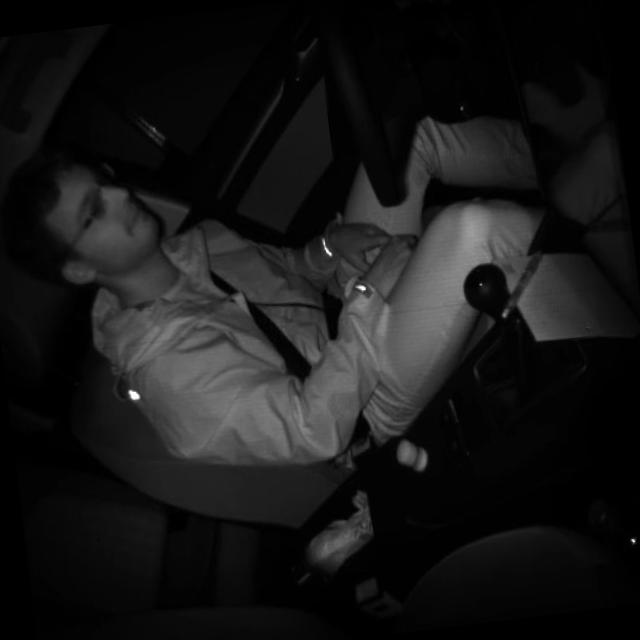pen: (492, 243, 553, 320)
